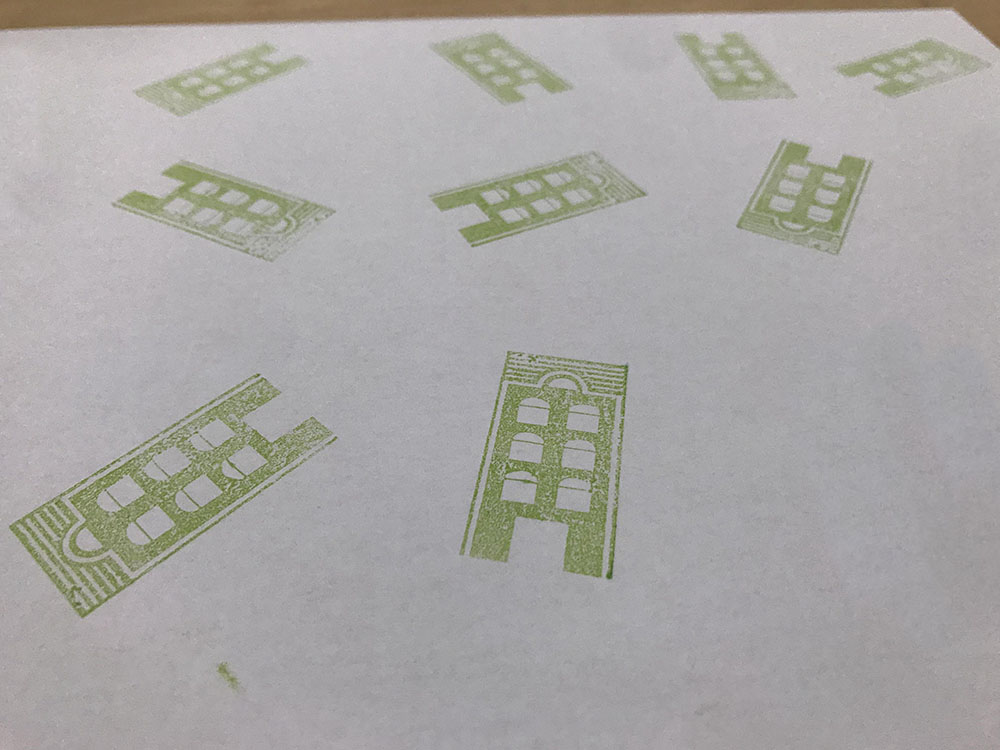build: (1, 337, 362, 659), (432, 339, 661, 595), (90, 138, 361, 279), (408, 137, 662, 261), (715, 131, 898, 273), (113, 36, 330, 126), (418, 26, 589, 123), (830, 20, 994, 113), (658, 19, 809, 119)
